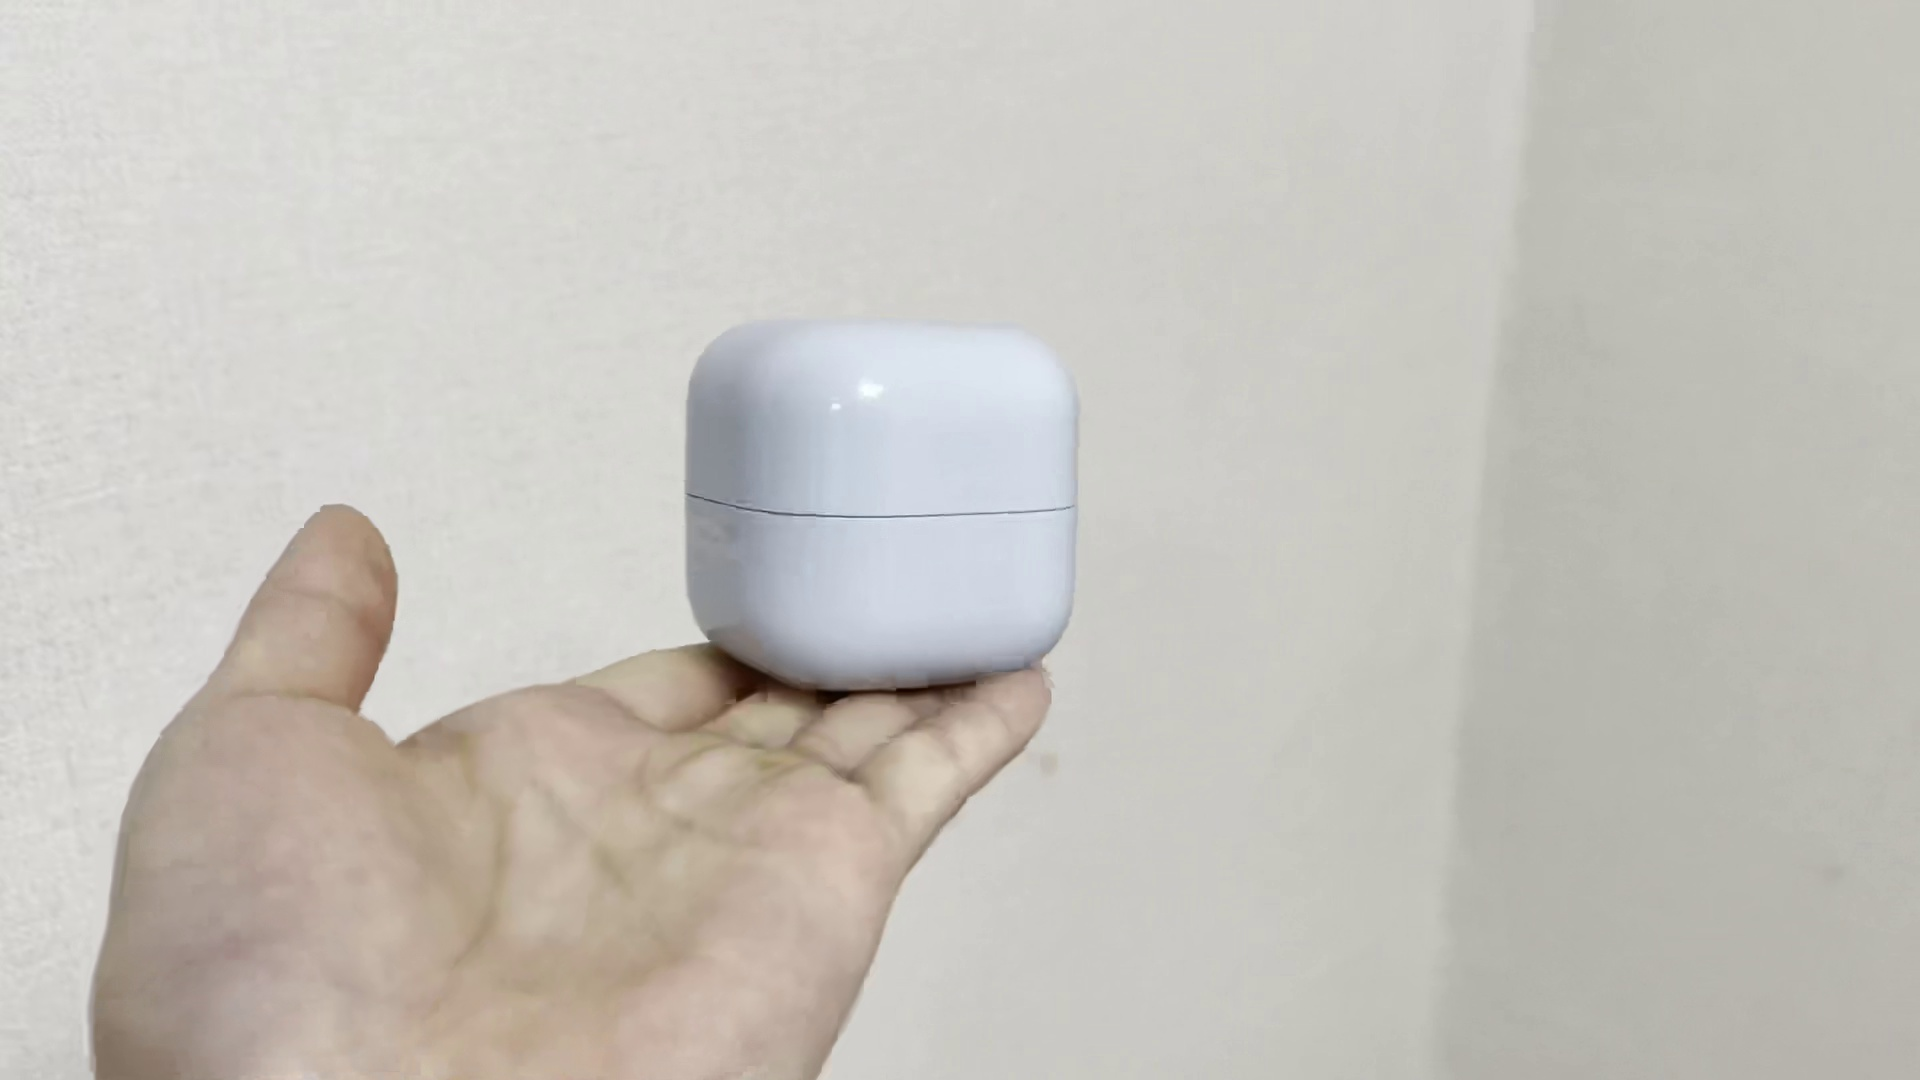cream: (682, 314, 1080, 696)
